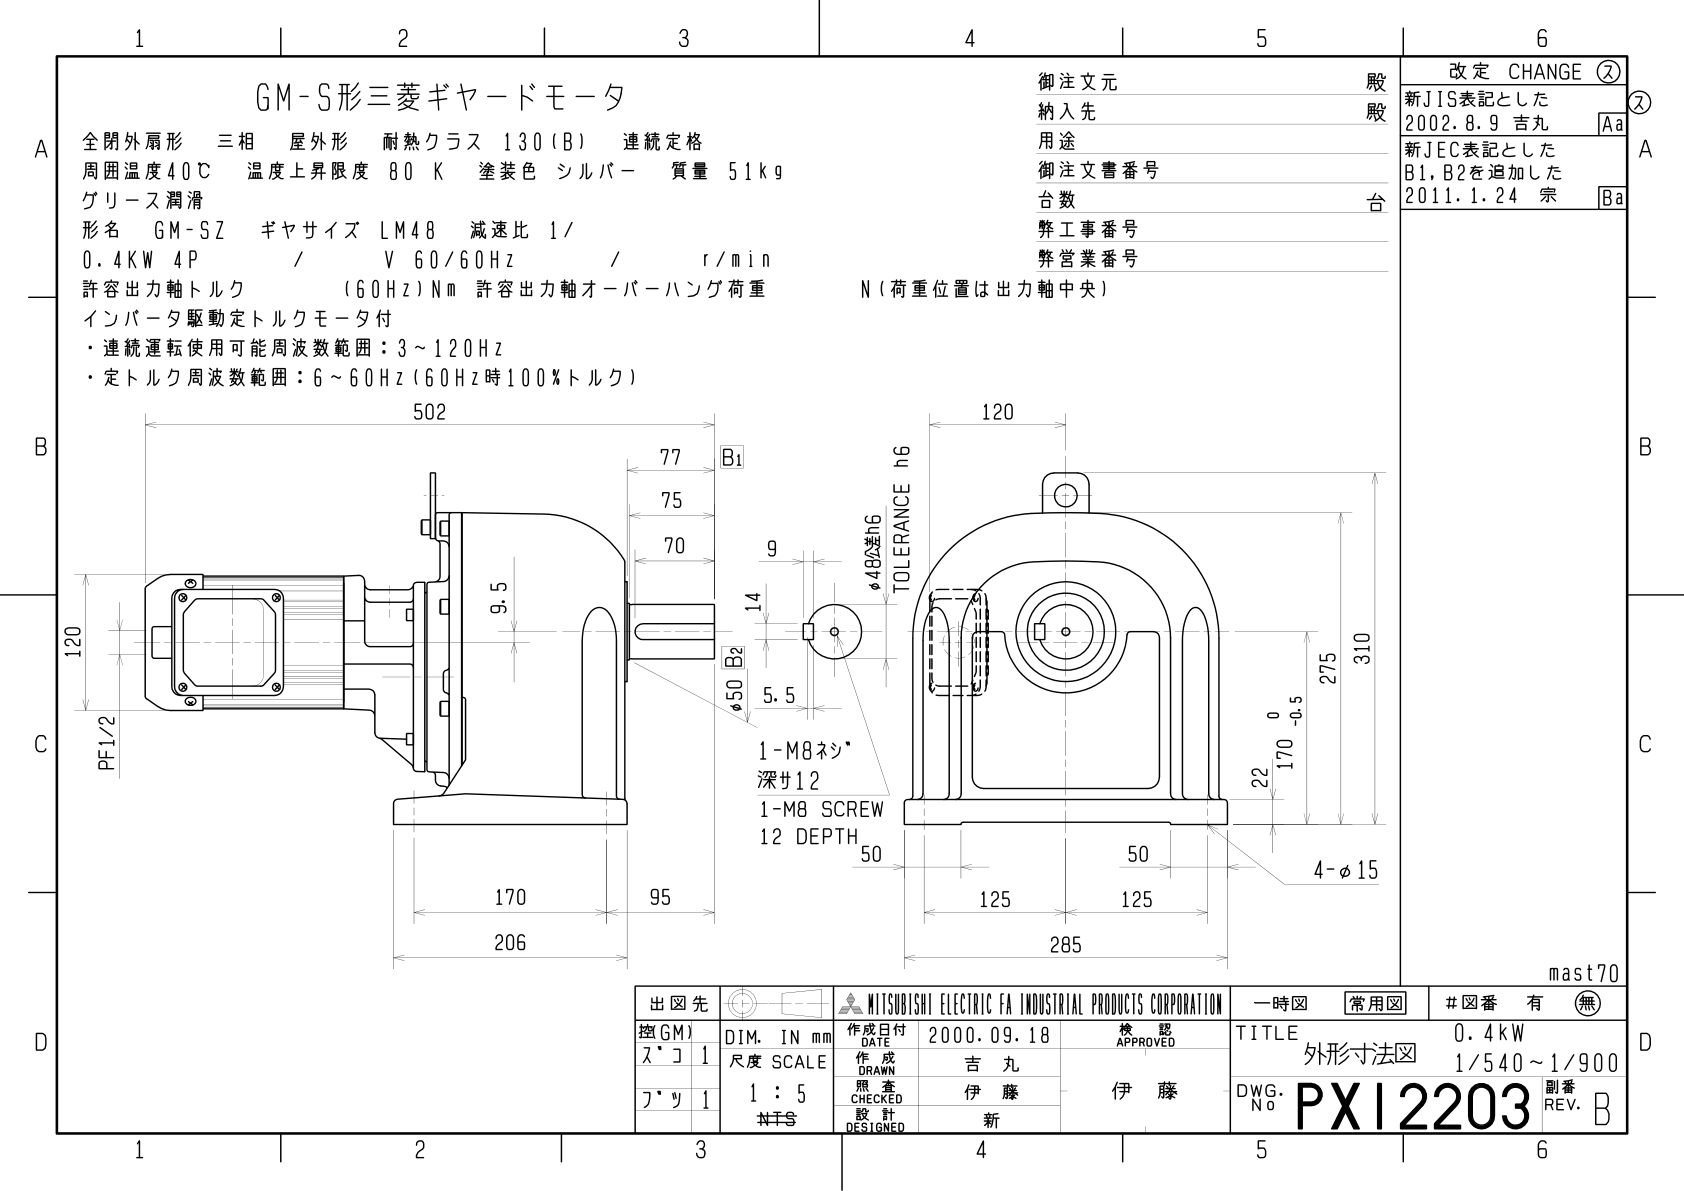GM_S_インバタ屋外＿三相_脚: (1, 10, 1669, 1167)
